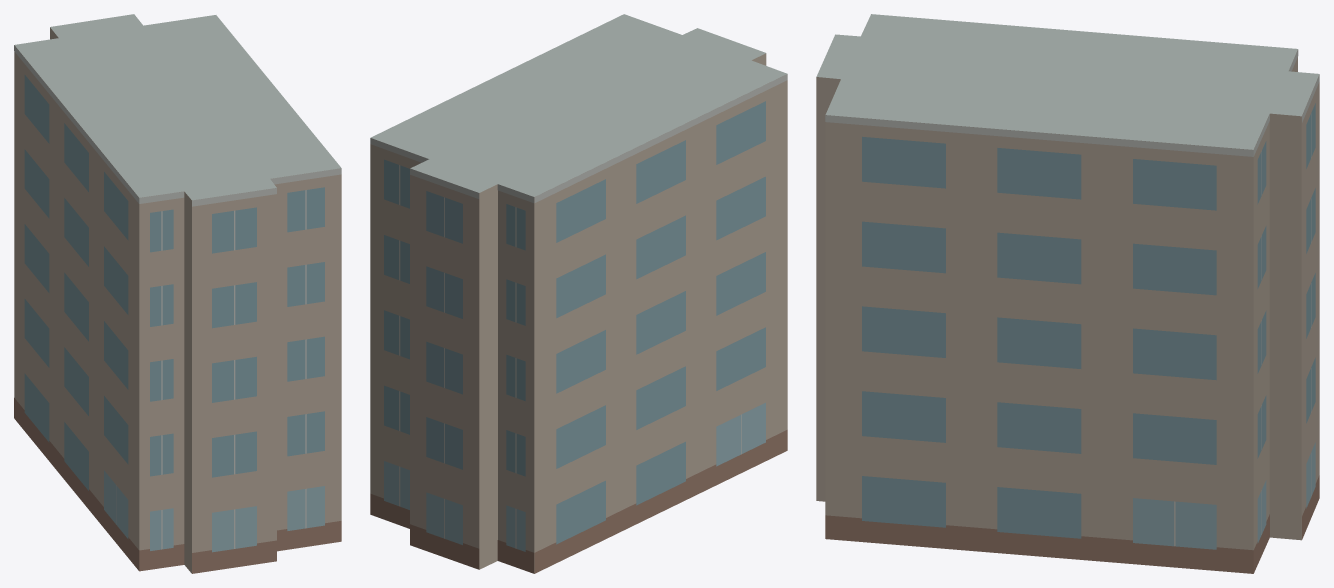
The model's file is survey-upis-32707022.glb.
3 views of the same model, side by side, from view 1: azimuth 30°, elevation 25°; view 2: azimuth 150°, elevation 25°; view 3: azimuth 270°, elevation 25° (orthographic). The views are drawn at different scales.
Parts seen in each view (by area): view 1: survey-upis-32707022.tmp; view 2: survey-upis-32707022.tmp; view 3: survey-upis-32707022.tmp.
Boxes of the visible parts, x1,y1,x2,y2 form: survey-upis-32707022.tmp: (14, 14, 341, 573); survey-upis-32707022.tmp: (370, 14, 787, 573); survey-upis-32707022.tmp: (816, 14, 1319, 573).
Size of the model in its own units: 10.04 by 14.6 by 15.72.
